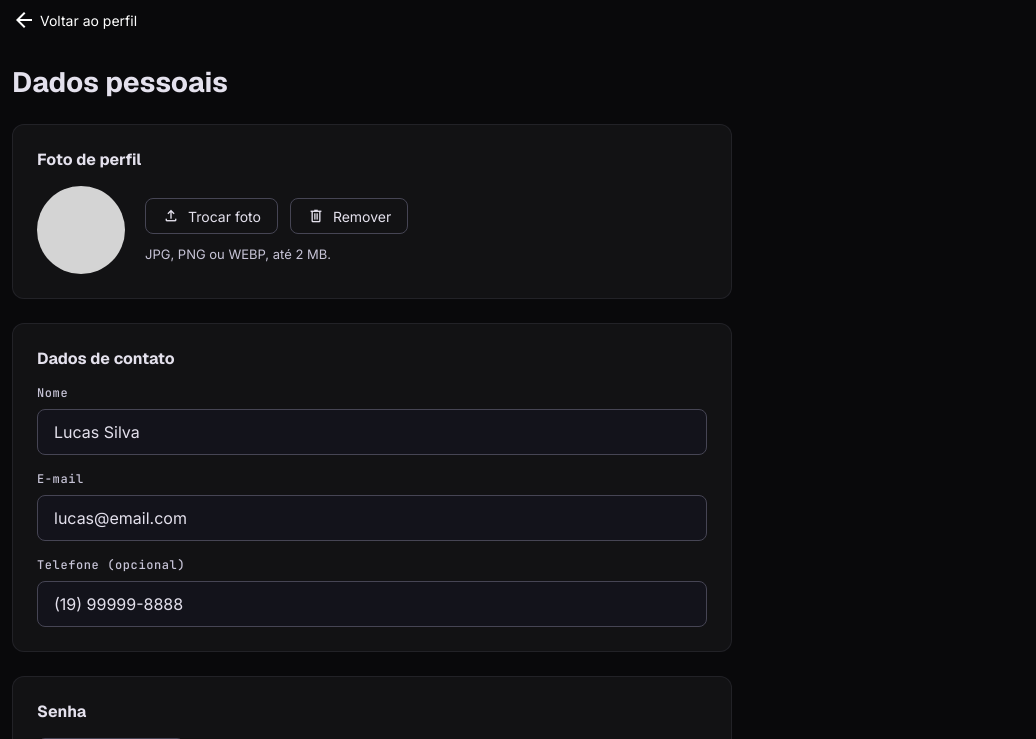
it: EditarDadosComponent › remover foto: deve remover pelo FotoPerfilService e voltar às iniciais
This screenshot has width=1036, height=739.
Click the button with class "editar-dados__remover-foto". click: (349, 216)
box: x1=290 y1=198 x2=408 y2=234
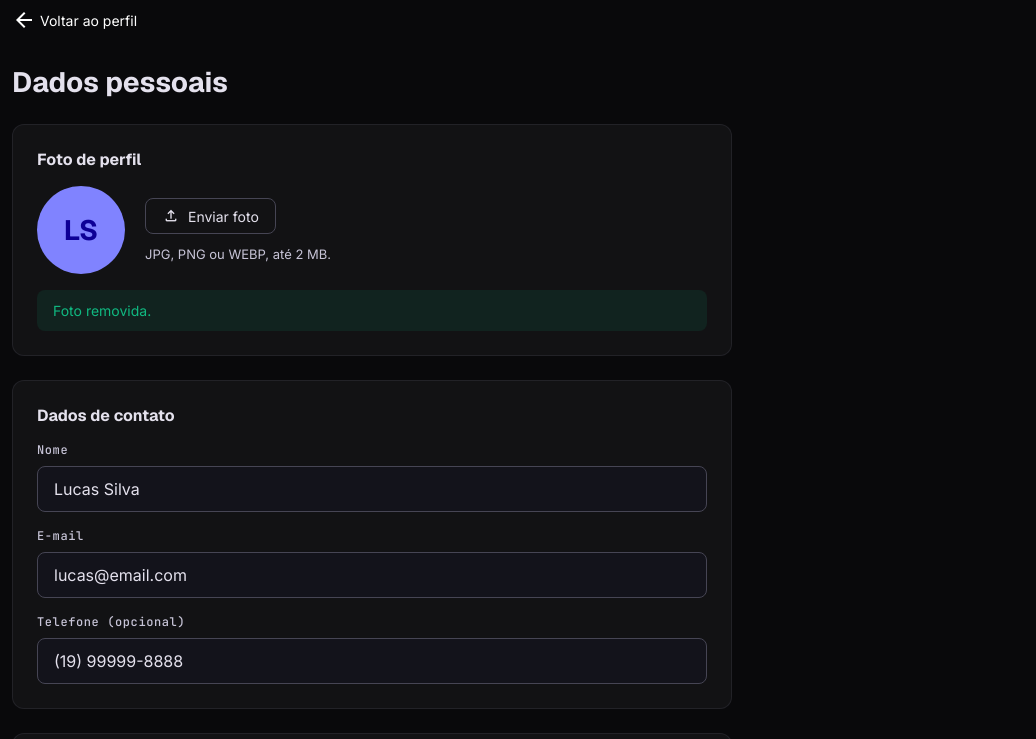
Check: the text "LS" is shown, box x1=37 y1=186 x2=125 y2=274
